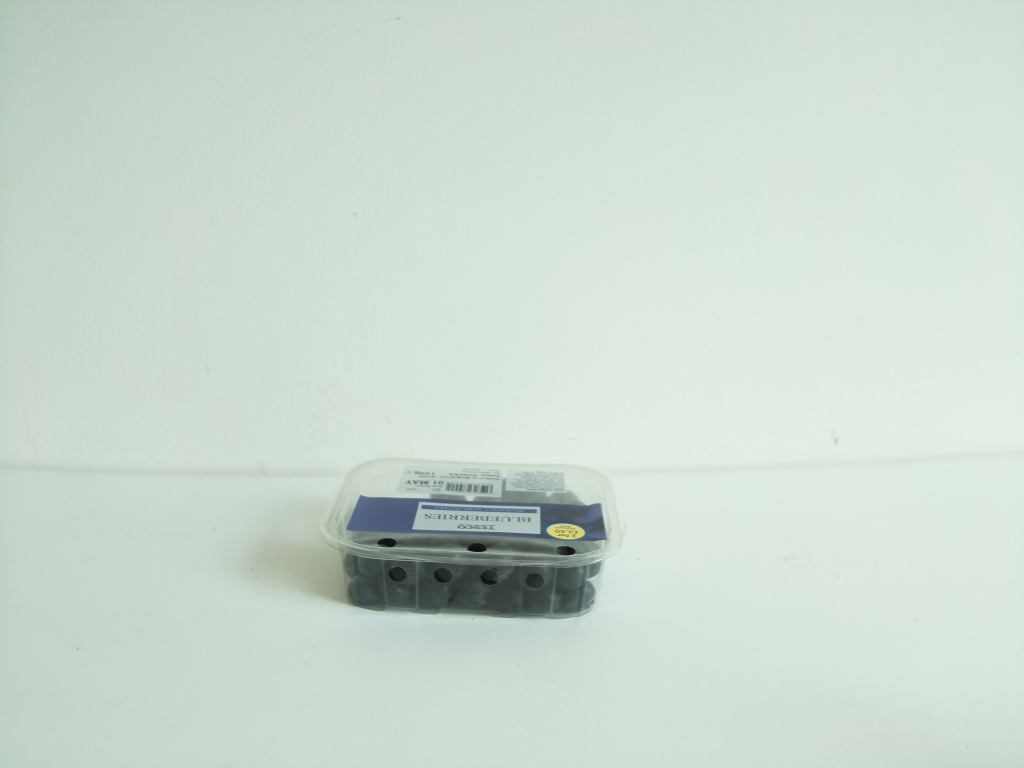soft-fruit: (331, 459, 622, 617)
